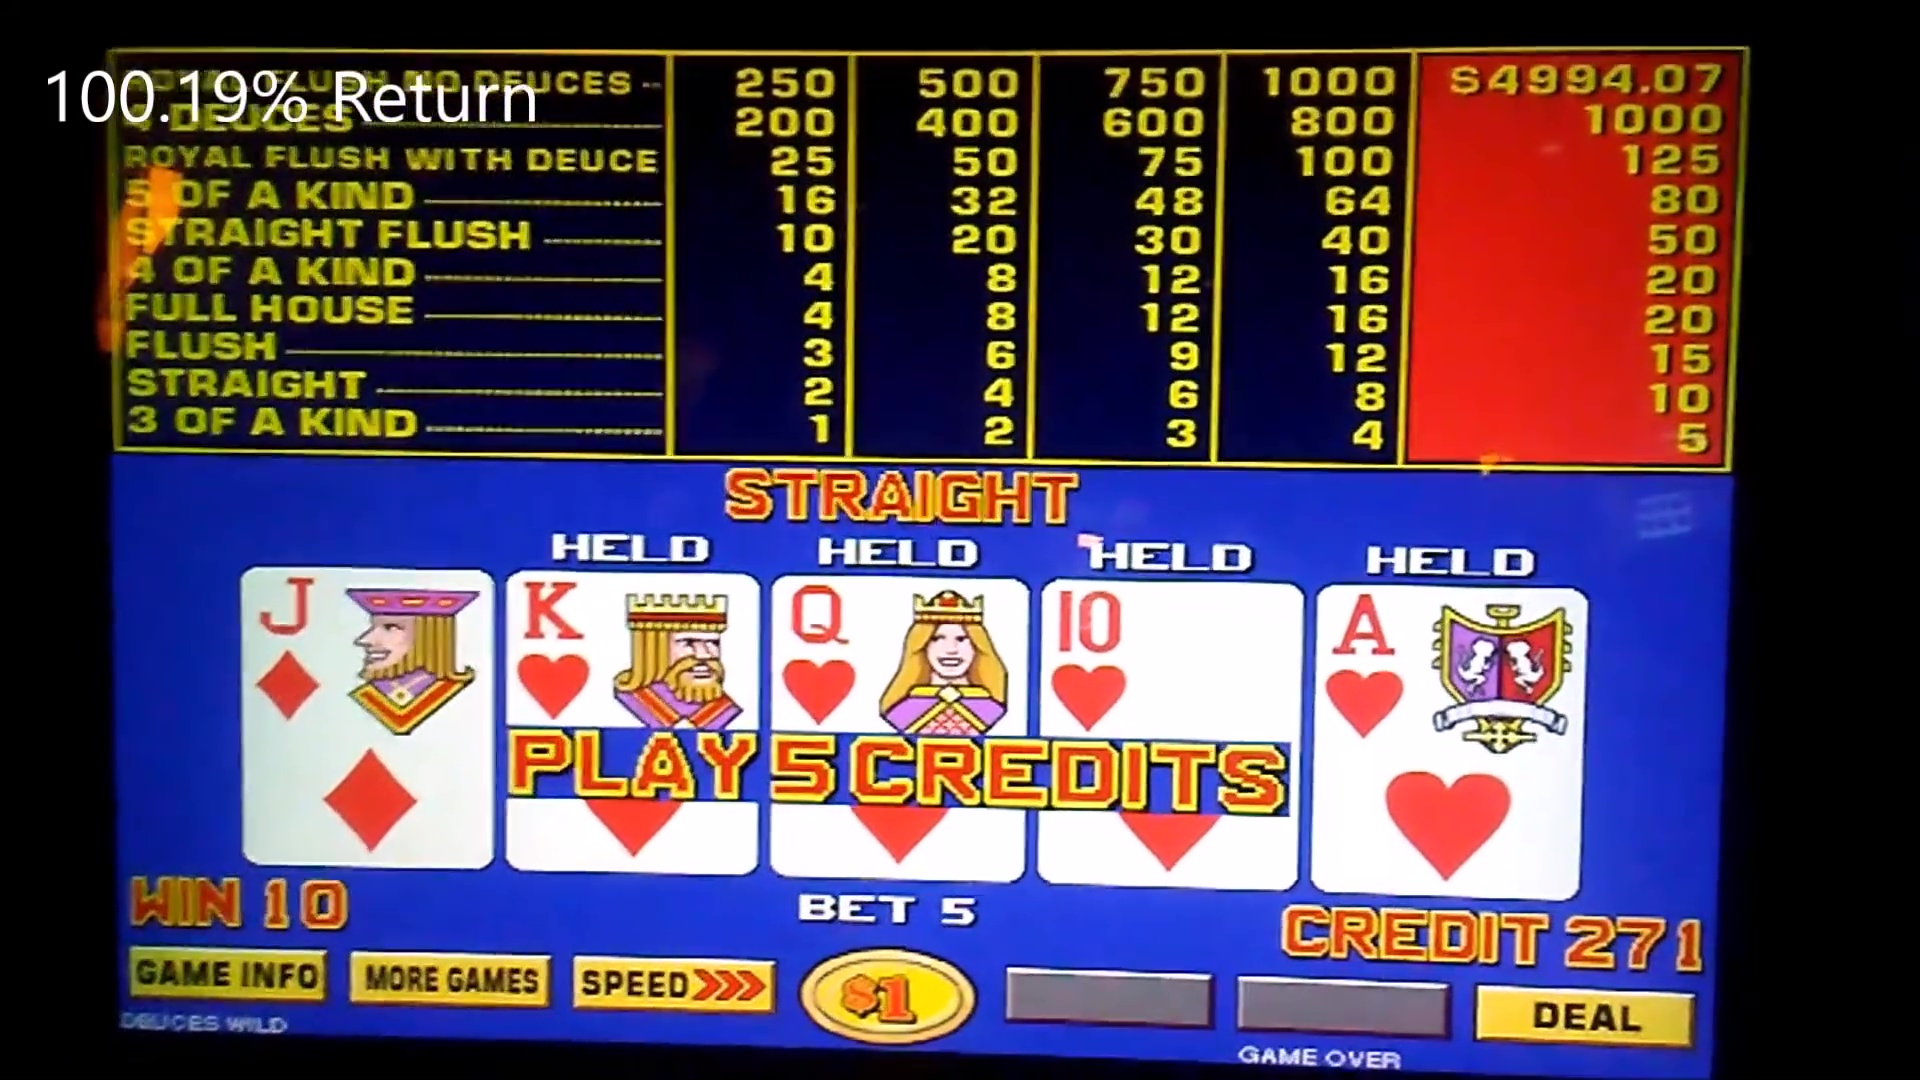DJ: (243, 568, 485, 723)
HA: (1315, 587, 1586, 746)
HK: (506, 578, 753, 721)
HQ: (773, 583, 1025, 732)
HT: (1046, 584, 1305, 729)
